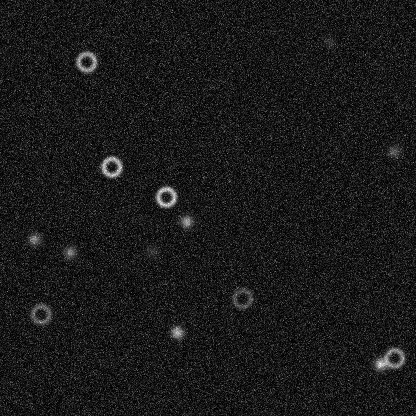Ring: (99, 154, 123, 178), (230, 286, 254, 310), (28, 302, 52, 326), (382, 345, 406, 369), (153, 184, 177, 208), (74, 49, 98, 73)
Spot: (178, 213, 194, 229), (61, 244, 77, 260), (321, 34, 337, 50), (385, 143, 401, 159), (26, 231, 42, 247), (169, 324, 185, 340), (143, 243, 159, 259), (372, 355, 388, 371)
